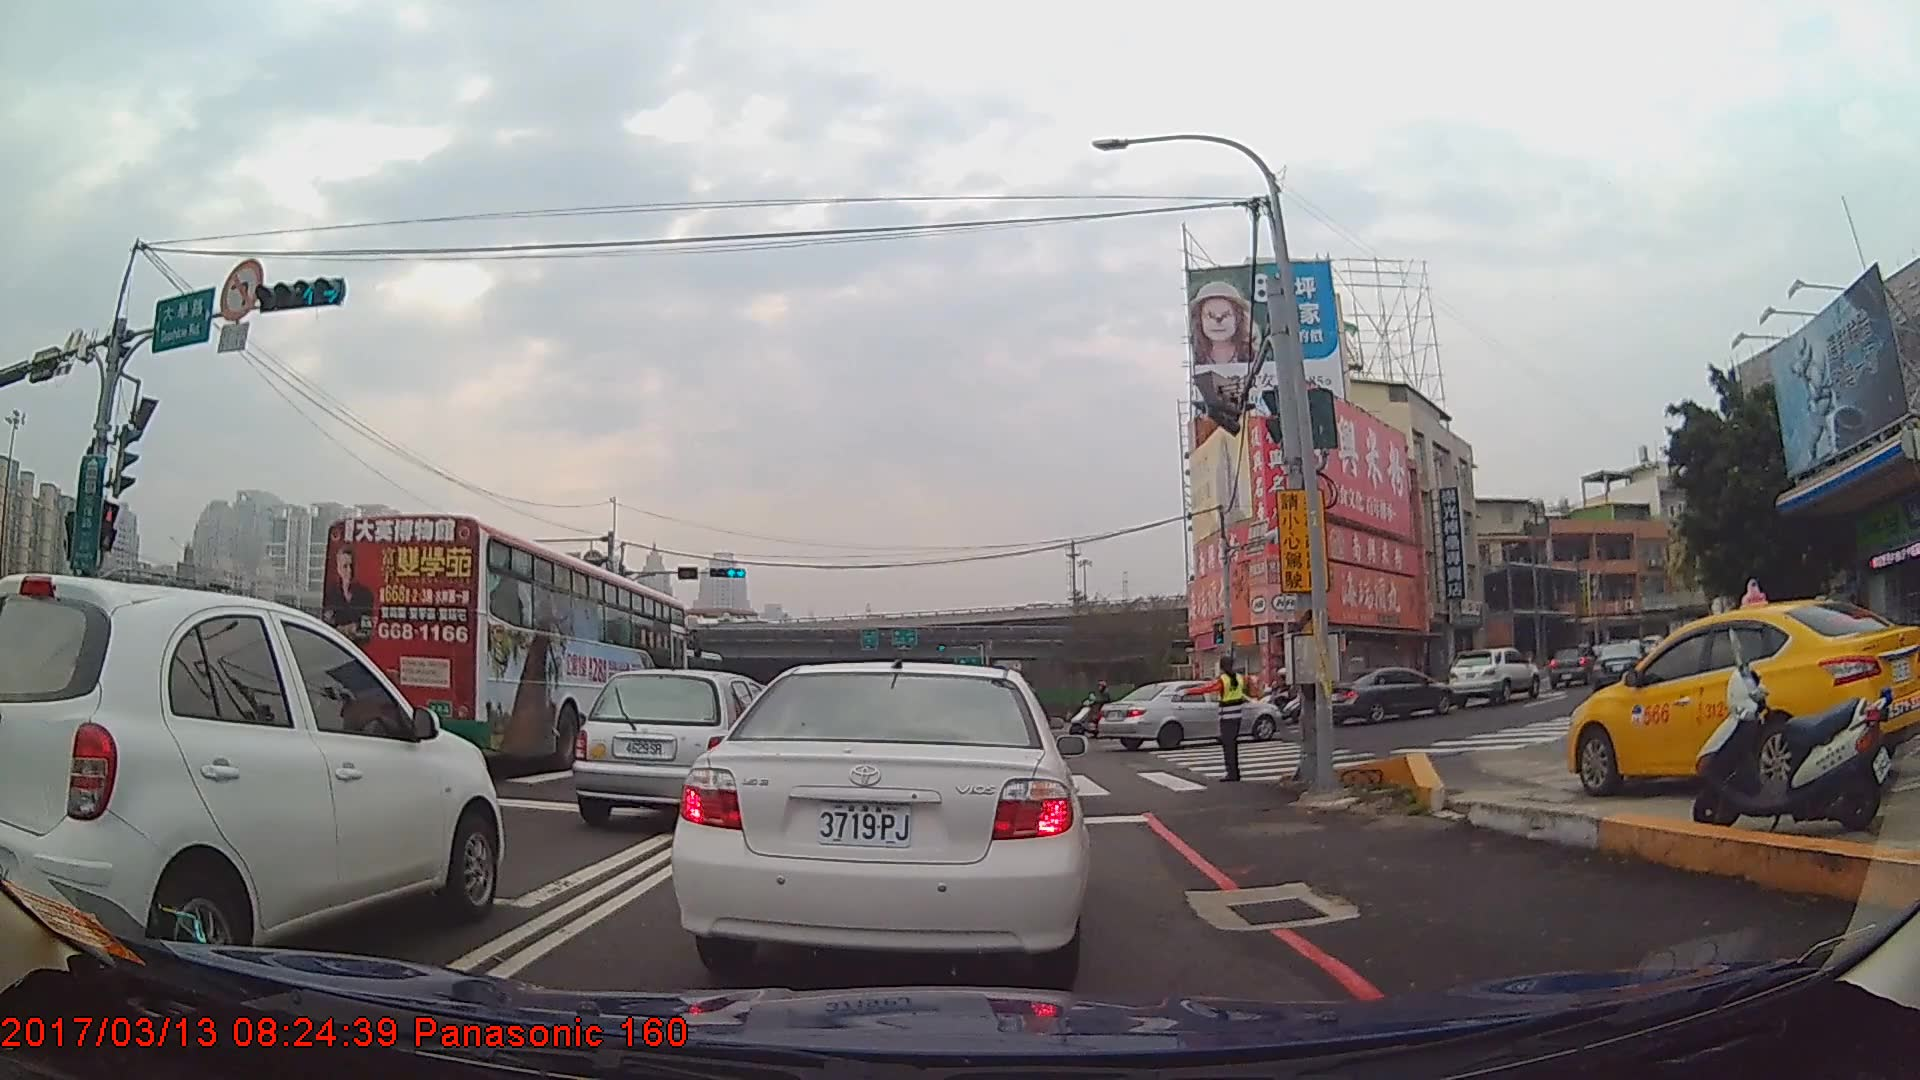pedestrian: (1207, 656, 1250, 785)
rider: (1072, 682, 1133, 738), (1253, 667, 1302, 725)
vehicle: (0, 571, 501, 981), (670, 659, 1087, 987), (313, 511, 695, 774), (1563, 598, 1920, 797), (571, 668, 802, 830), (1095, 679, 1281, 749), (1319, 665, 1451, 725), (1448, 645, 1539, 707), (1590, 638, 1656, 698), (1548, 642, 1600, 688)
